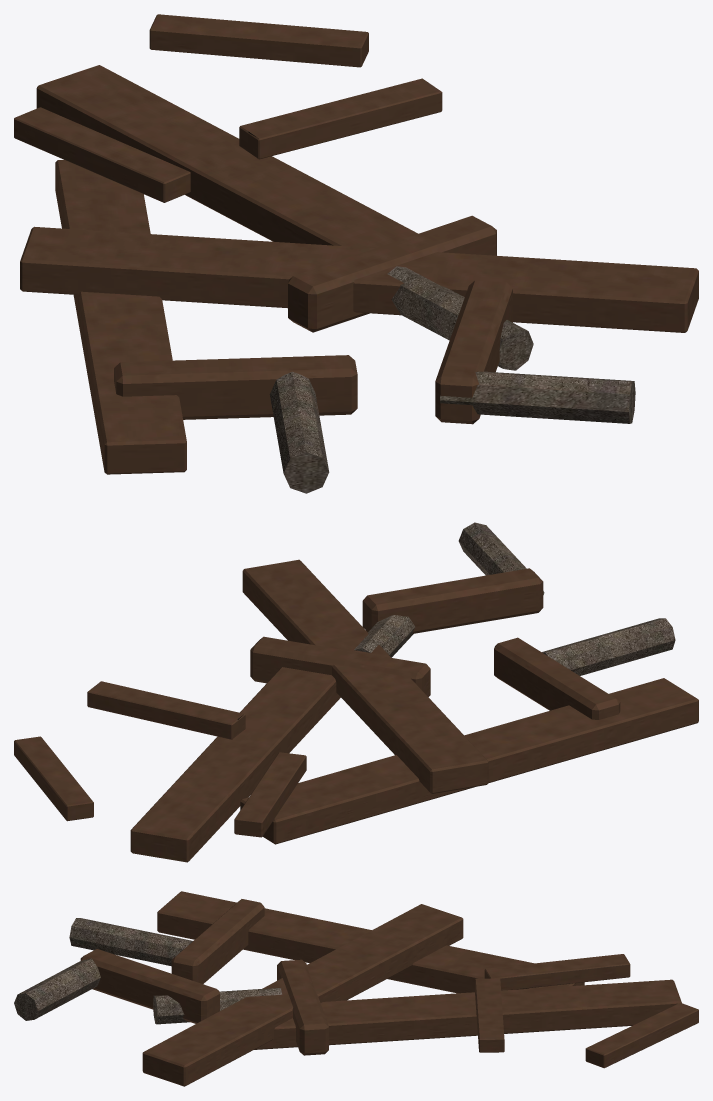
File: broken-weapons.glb
3 renders of one model, top to bottom at view 1: azimuth 30°, elevation 25°; view 2: azimuth 150°, elevation 25°; view 3: azimuth 270°, elevation 25°, orthographic. The views are drawn at different scales.
Parts seen in each view (by area): view 1: broken-weapons; view 2: broken-weapons; view 3: broken-weapons.
Part boxes in pixels (bbox=[...]): broken-weapons: bbox=[14, 14, 698, 493]; broken-weapons: bbox=[14, 522, 698, 862]; broken-weapons: bbox=[14, 891, 698, 1086].
Size of the model in its own units: 0.5402 by 0.072 by 0.8074.
1 material, 1 textured.
